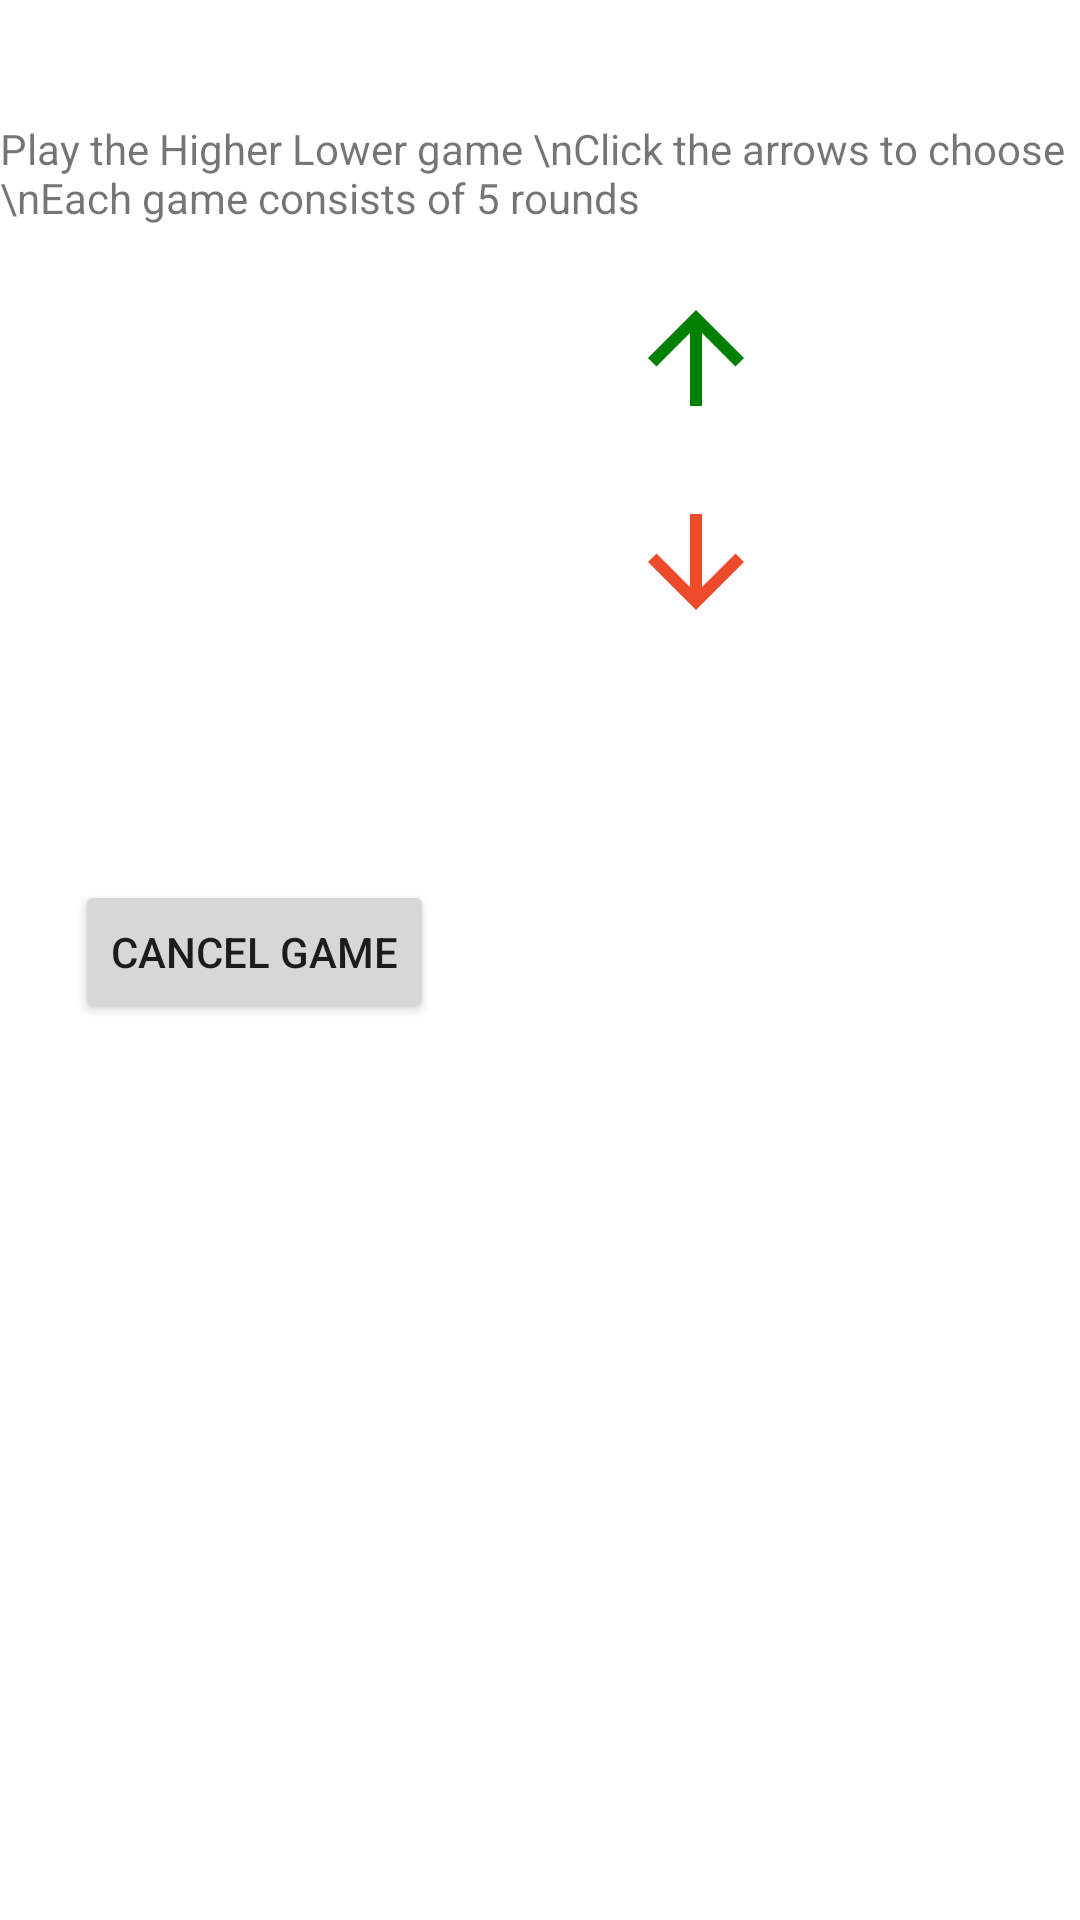

Locate icon controls on the screen. Image size 1080*1920, boxes as detection(x1, y1, x2, y2).
arrow downward: detection(648, 514, 744, 610)
arrow upward: detection(648, 310, 744, 406)
